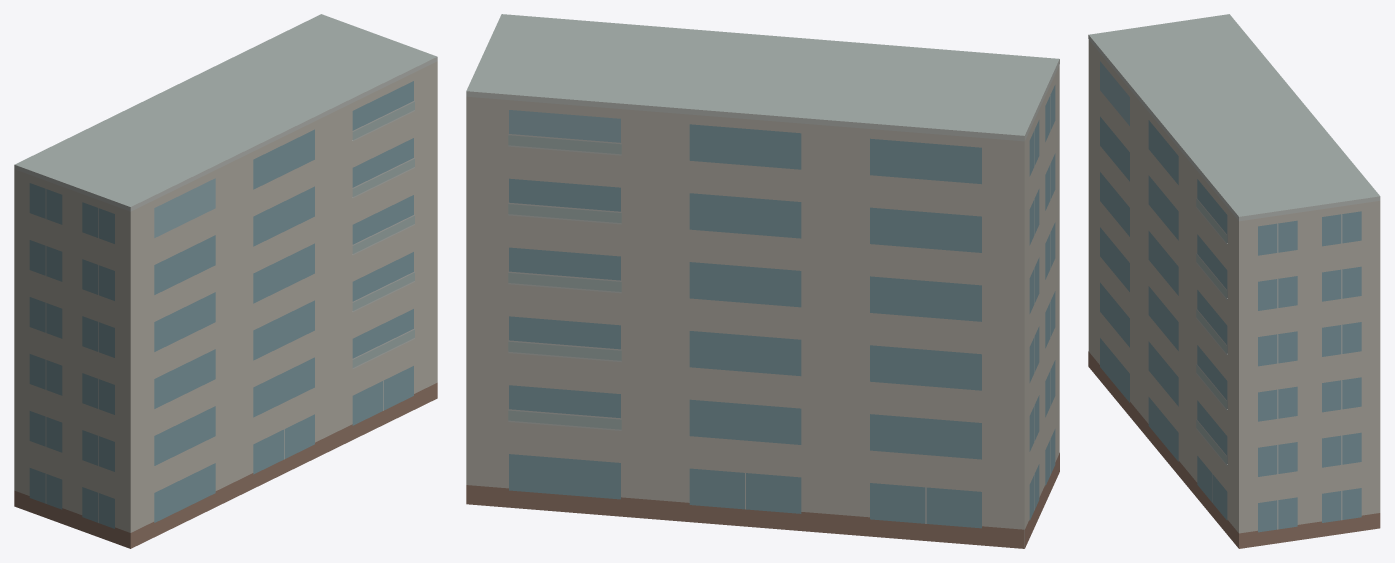
Rendered from survey-upis-32753592.glb.
The picture shows the model from 3 angles, left to right: view 1: azimuth 30°, elevation 25°; view 2: azimuth 150°, elevation 25°; view 3: azimuth 270°, elevation 25°; orthographic projection. The views are drawn at different scales.
Parts seen in each view (by area): view 1: survey-upis-32753592.tmp; view 2: survey-upis-32753592.tmp; view 3: survey-upis-32753592.tmp.
Part boxes in pixels (box(x1,y1,x2,y2)): survey-upis-32753592.tmp: box(14, 14, 437, 548); survey-upis-32753592.tmp: box(466, 14, 1059, 548); survey-upis-32753592.tmp: box(1088, 14, 1380, 548).
Size of the model in its own units: 23.99 by 18.3 by 14.59.
